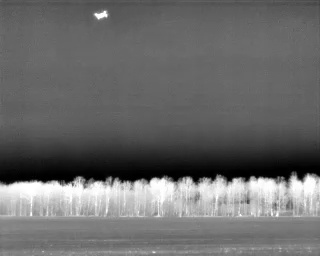DRONE: (91, 6, 113, 25)
